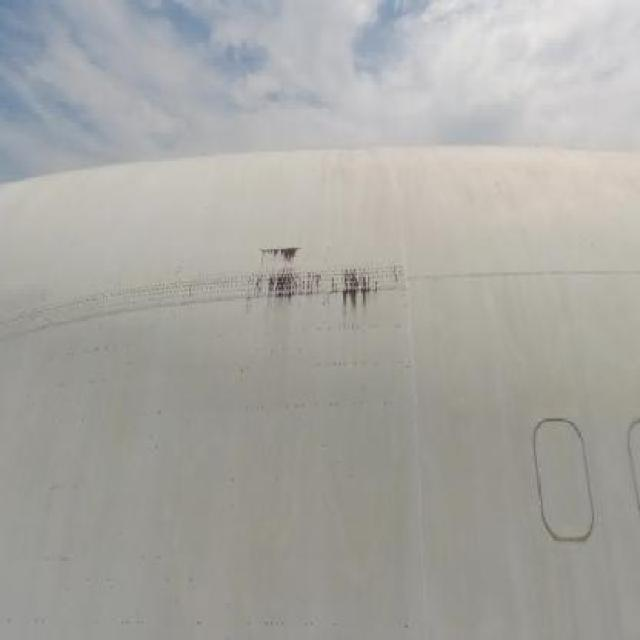Rust: (238, 224, 396, 330)
